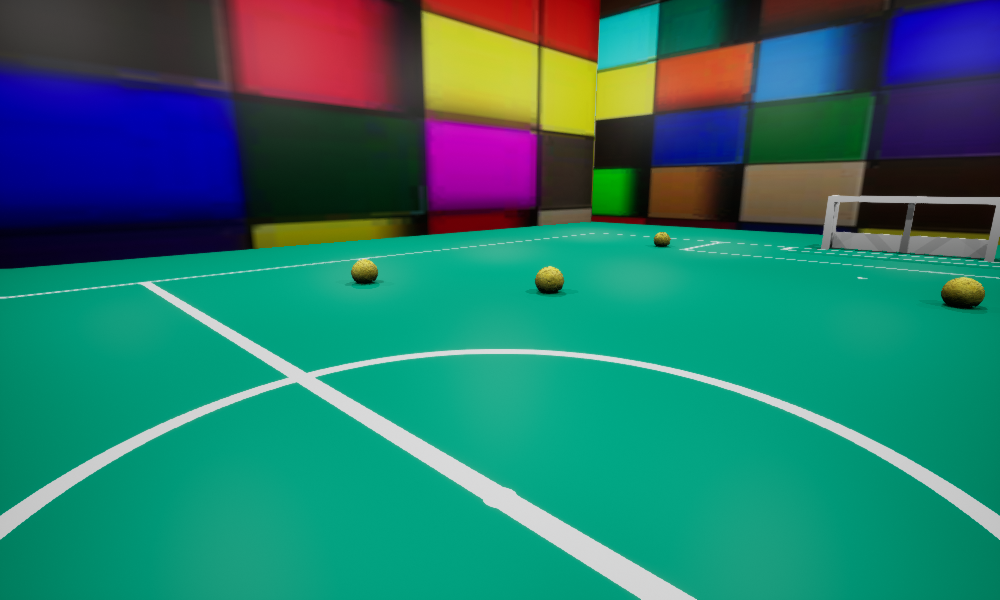b: (941, 277, 984, 307), (535, 266, 563, 293), (351, 259, 377, 283), (654, 232, 670, 246)
g: (821, 195, 999, 261)
